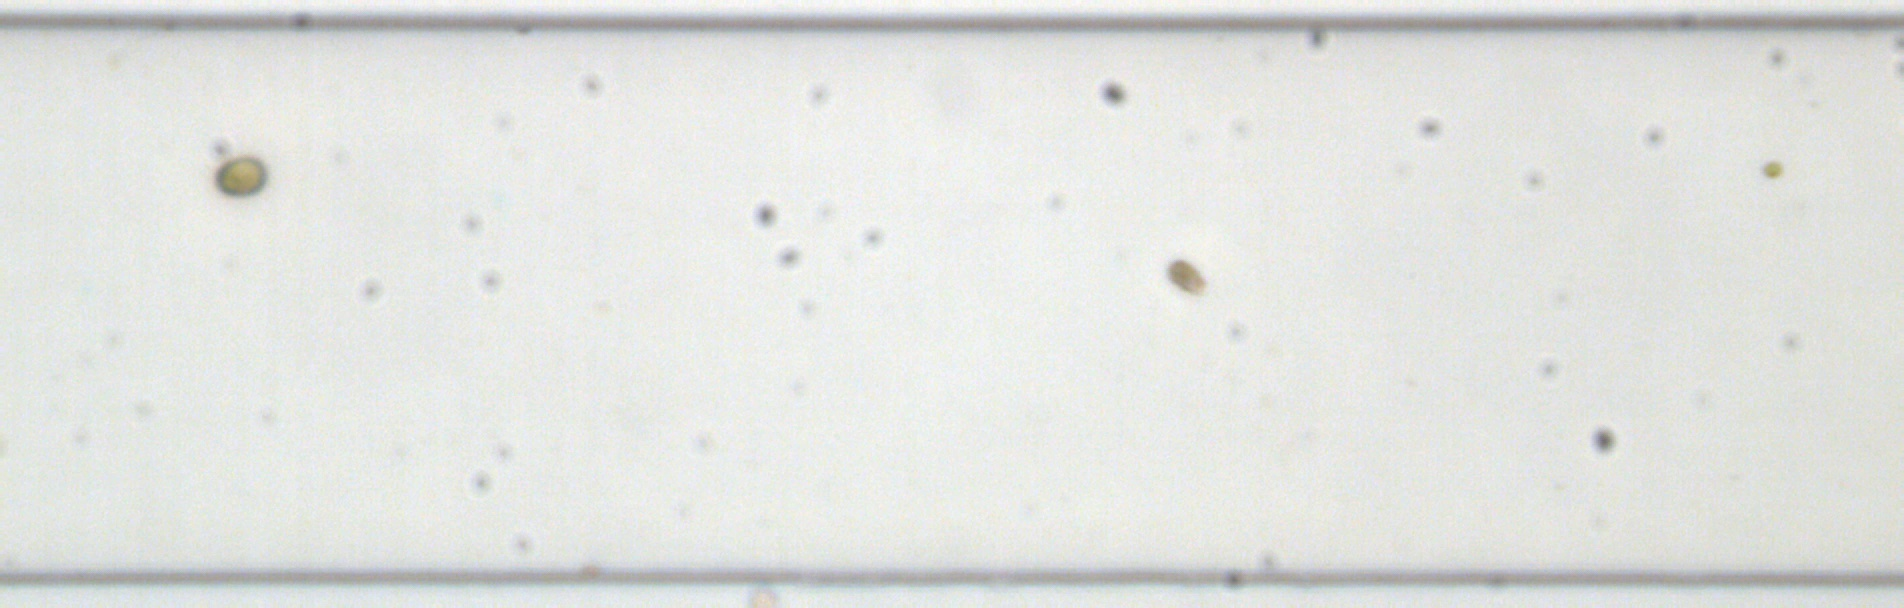Chlorella: (1758, 157, 1784, 178)
Dunaliella salina: (1163, 256, 1209, 296)
Effrenium: (211, 150, 267, 200)
